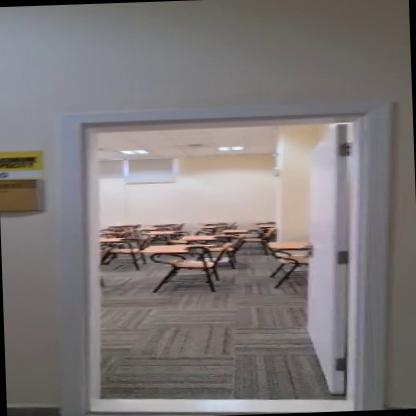open: (51, 86, 384, 416)
